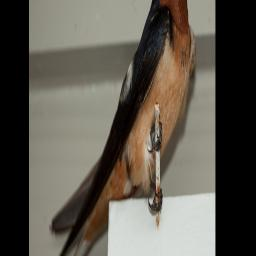Swallow: (33, 0, 191, 256)
